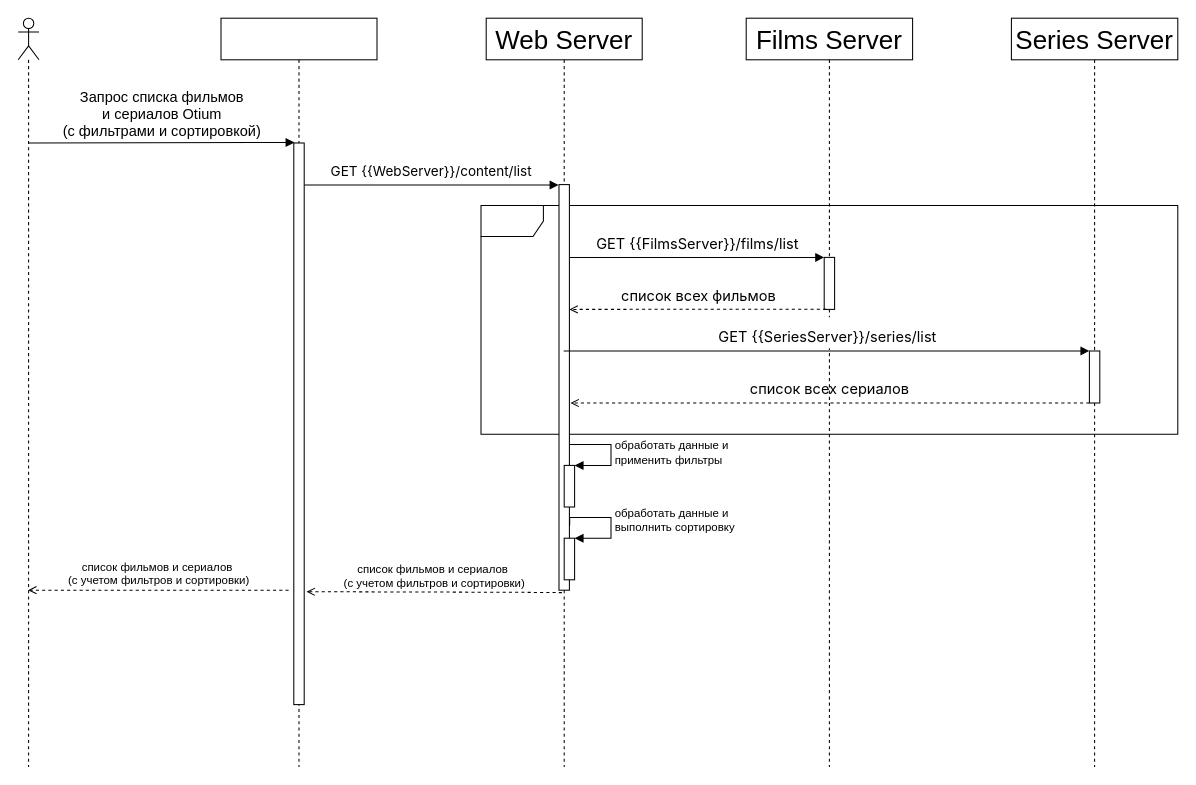
Some shapes in this 1196 by 785 pixel diagram are drawn without their labels. Here are the shapes that lost their labels. From the top down, the box of each, then its label:
(480, 204, 1178, 434): par
(220, 17, 377, 767): UI: Otium
